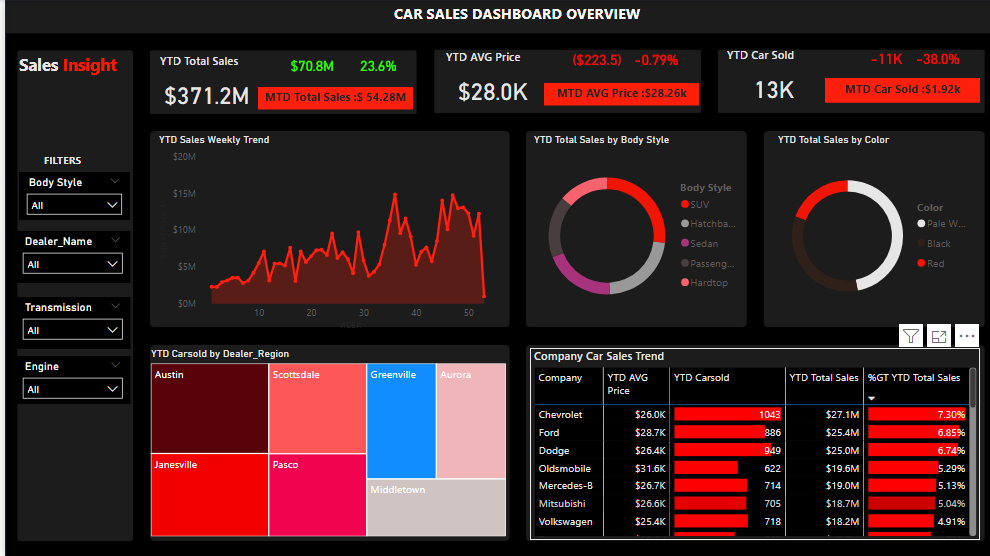

The dashboard page shown, as its layout file describes it:
{"tool":"powerbi","page":{"name":"overview dashboard","canvas":[1280,720],"ordinal":0},"visuals":[{"type":"card","title":" YTD Total Sales","fields":{"Values":["calender Table.YTD Total Sales"]},"box":[194.9,68.9,131,85.7],"z":0},{"type":"card","fields":{"Values":["calender Table.sales difference"]},"box":[352.9,69.4,85,31.2],"z":1000},{"type":"card","fields":{"Values":["calender Table.YOY Growth"]},"box":[438,69.4,87.9,31.2],"z":2000},{"type":"card","fields":{"Values":["calender Table.MTD KPI"]},"box":[325.9,112.5,199.9,28.6],"z":3000},{"type":"card","title":" YTD AVG Price","fields":{"Values":["calender Table.YTD AVG Price"]},"box":[564.3,63.8,131,85.7],"z":4000},{"type":"card","fields":{"Values":["calender Table.AVG Price diff"]},"box":[719,63.8,89,28.6],"z":5000},{"type":"card","fields":{"Values":["calender Table.MTD avg price Kpi"]},"box":[695.4,107.4,199.9,28.6],"z":6000},{"type":"card","title":" YTD Car Sold","fields":{"Values":["calender Table.YTD Carsold"]},"box":[927.1,60.3,131,85.7],"z":7000},{"type":"card","fields":{"Values":["calender Table.Car sold diff"]},"box":[1101.8,60.3,68.9,31.9],"z":8000},{"type":"card","fields":{"Values":["calender Table.MTD CarSold kpi"]},"box":[1058.3,100.8,199.9,31.9],"z":9000},{"type":"card","fields":{"Values":["calender Table.YOY AVG Price Growth"]},"box":[794.5,63.8,89,28.6],"z":10000},{"type":"card","fields":{"Values":["calender Table.YOY car sold growth"]},"box":[1159.4,60.9,85,31.2],"z":11000},{"type":"areaChart","title":"YTD Sales Weekly Trend","fields":{"Category":["calender Table.WEEK"],"Y":["Sum(car_data.Price ($))"]},"box":[194.2,172.9,446.5,258],"z":12000},{"type":"donutChart","fields":{"Y":["calender Table.YTD Total Sales"],"Category":["car_data.Body Style"]},"box":[677.5,172.9,280.6,248],"z":13000},{"type":"donutChart","fields":{"Y":["calender Table.YTD Total Sales"],"Category":["car_data.Color"]},"box":[992.1,172.9,266.5,248],"z":14000},{"type":"treemap","fields":{"Group":["car_data.Dealer_Region"],"Values":["calender Table.YTD Carsold"]},"box":[182.8,449.3,467.7,248],"z":15000},{"type":"tableEx","title":"Company Car Sales Trend","fields":{"Values":["car_data.Company","calender Table.YTD AVG Price","calender Table.YTD Carsold","calender Table.YTD Total Sales1","calender Table.YTD Total Sales"]},"box":[677.5,449.3,581.1,248],"z":16000},{"type":"slicer","fields":{"Values":["car_data.Engine"]},"box":[12.8,459.2,148.8,62.4],"z":17000},{"type":"slicer","fields":{"Values":["car_data.Transmission"]},"box":[12.8,382.7,148.8,66.6],"z":18000},{"type":"slicer","fields":{"Values":["car_data.Dealer_Name"]},"box":[12.8,297.6,148.8,66.6],"z":19000},{"type":"slicer","fields":{"Values":["car_data.Body Style"]},"box":[18.4,222.5,143.1,62.4],"z":20000},{"type":"textbox","box":[12.8,63.8,150.2,85],"z":21000},{"type":"textbox","box":[425.2,0,470.6,46.8],"z":22000},{"type":"textbox","box":[45.4,192.8,116.2,29.8],"z":23000}]}

Visuals, with their boxes in screenshot pixels (x1, y1, x2, y2), scaled from the page's 1280x720 canvas onto the 990x556 screenshot:
" YTD Total Sales" card: <bbox>151, 53, 252, 119</bbox>
card - calender Table.sales difference: <bbox>273, 54, 339, 78</bbox>
card - calender Table.YOY Growth: <bbox>339, 54, 407, 78</bbox>
card - calender Table.MTD KPI: <bbox>252, 87, 407, 109</bbox>
" YTD AVG Price" card: <bbox>436, 49, 538, 115</bbox>
card - calender Table.AVG Price diff: <bbox>556, 49, 625, 71</bbox>
card - calender Table.MTD avg price Kpi: <bbox>538, 83, 692, 105</bbox>
" YTD Car Sold" card: <bbox>717, 47, 818, 113</bbox>
card - calender Table.Car sold diff: <bbox>852, 47, 905, 71</bbox>
card - calender Table.MTD CarSold kpi: <bbox>819, 78, 973, 102</bbox>
card - calender Table.YOY AVG Price Growth: <bbox>614, 49, 683, 71</bbox>
card - calender Table.YOY car sold growth: <bbox>897, 47, 962, 71</bbox>
"YTD Sales Weekly Trend" areaChart: <bbox>150, 134, 496, 333</bbox>
donutChart - calender Table.YTD Total Sales x car_data.Body Style: <bbox>524, 134, 741, 325</bbox>
donutChart - calender Table.YTD Total Sales x car_data.Color: <bbox>767, 134, 973, 325</bbox>
treemap - car_data.Dealer_Region x calender Table.YTD Carsold: <bbox>141, 347, 503, 538</bbox>
"Company Car Sales Trend" tableEx: <bbox>524, 347, 973, 538</bbox>
slicer - car_data.Engine: <bbox>10, 355, 125, 403</bbox>
slicer - car_data.Transmission: <bbox>10, 296, 125, 347</bbox>
slicer - car_data.Dealer_Name: <bbox>10, 230, 125, 281</bbox>
slicer - car_data.Body Style: <bbox>14, 172, 125, 220</bbox>
textbox: <bbox>10, 49, 126, 115</bbox>
textbox: <bbox>329, 0, 693, 36</bbox>
textbox: <bbox>35, 149, 125, 172</bbox>
